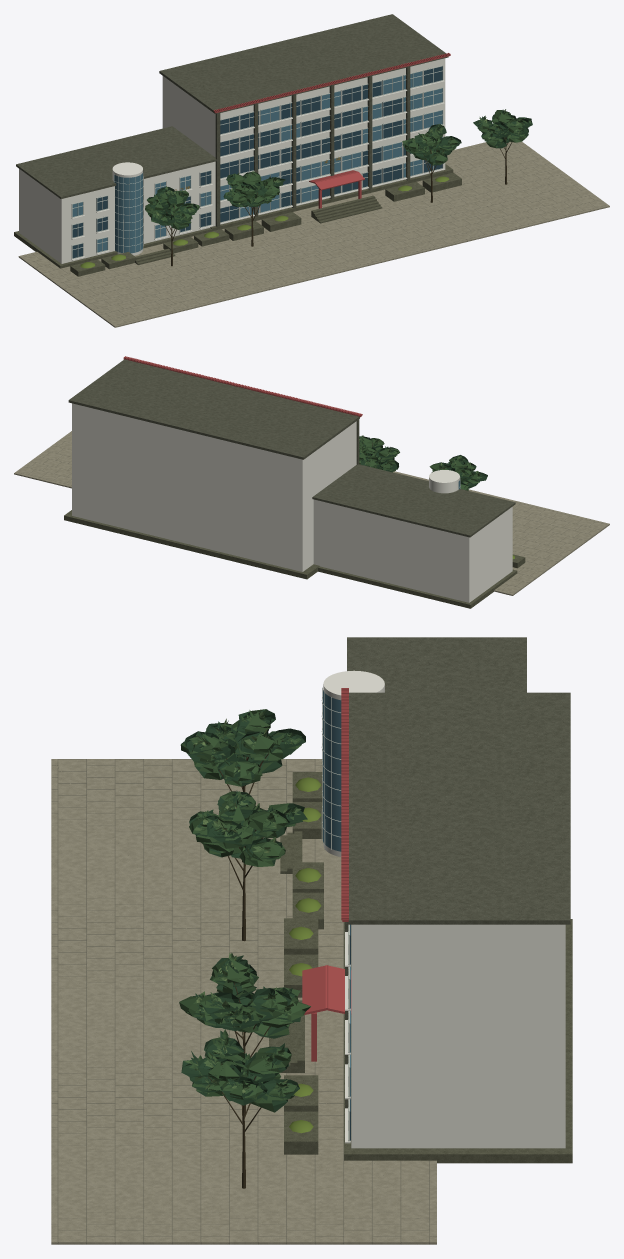
Rendered from lingchuan-academic.glb.
3 views of the same model, one above another, from view 1: azimuth 30°, elevation 25°; view 2: azimuth 150°, elevation 25°; view 3: azimuth 270°, elevation 25° (orthographic). The views are drawn at different scales.
Parts seen in each view (by area): view 1: Academic_courtyard_concrete_paving, Qiushi_laboratory_roof_concrete, Qiushi_laboratory_plaster, Zonghe_office_plaster, Qiushi_laboratory_dark_window_glass, Zonghe_office_roof_concrete, Academic_courtyard, Qiushi_laboratory_aluminium_frames, Qiushi_laboratory_old_blue_glass, Qiushi_laboratory_weathered_stone, Zonghe_office_old_blue_glass, Zonghe_office_weathered_stone (+4 smaller); view 2: Qiushi_laboratory_plaster, Qiushi_laboratory_roof_concrete, Zonghe_office_plaster, Zonghe_office_roof_concrete, Academic_courtyard_concrete_paving, Academic_courtyard, Qiushi_laboratory_weathered_stone, Zonghe_office_weathered_stone, Qiushi_laboratory_red_horizontal_trim; view 3: Academic_courtyard_concrete_paving, Qiushi_laboratory_roof_concrete, Qiushi_laboratory_plaster, Academic_courtyard, Qiushi_laboratory_weathered_stone, Zonghe_office_roof_concrete, Qiushi_laboratory_red_horizontal_trim, Zonghe_office_weathered_stone, Zonghe_office_old_blue_glass, Zonghe_office_plaster, Academic_courtyard_tree_bark, Zonghe_office_clipped_hedge (+1 smaller).
Part boxes in pixels (bbox=[...]): Academic_courtyard_concrete_paving: bbox=[18, 141, 609, 327]; Qiushi_laboratory_roof_concrete: bbox=[159, 14, 448, 226]; Qiushi_laboratory_plaster: bbox=[162, 58, 445, 224]; Zonghe_office_plaster: bbox=[19, 161, 215, 263]; Qiushi_laboratory_dark_window_glass: bbox=[220, 66, 442, 222]; Zonghe_office_roof_concrete: bbox=[16, 126, 216, 198]; Academic_courtyard: bbox=[145, 109, 532, 229]; Qiushi_laboratory_aluminium_frames: bbox=[220, 65, 443, 222]; Qiushi_laboratory_old_blue_glass: bbox=[220, 71, 442, 217]; Qiushi_laboratory_weathered_stone: bbox=[210, 164, 461, 240]; Zonghe_office_old_blue_glass: bbox=[72, 173, 210, 253]; Zonghe_office_weathered_stone: bbox=[14, 228, 229, 276]; Qiushi_laboratory_plaster: bbox=[72, 403, 356, 571]; Qiushi_laboratory_roof_concrete: bbox=[68, 359, 359, 464]; Zonghe_office_plaster: bbox=[313, 470, 512, 602]; Zonghe_office_roof_concrete: bbox=[312, 464, 515, 537]; Academic_courtyard_concrete_paving: bbox=[14, 431, 609, 595]; Academic_courtyard: bbox=[359, 435, 487, 490]; Qiushi_laboratory_weathered_stone: bbox=[64, 510, 319, 579]; Zonghe_office_weathered_stone: bbox=[318, 554, 525, 608]; Qiushi_laboratory_red_horizontal_trim: bbox=[123, 356, 362, 417]; Academic_courtyard_concrete_paving: bbox=[51, 759, 436, 1244]; Qiushi_laboratory_roof_concrete: bbox=[345, 692, 570, 1108]; Qiushi_laboratory_plaster: bbox=[345, 924, 565, 1148]; Academic_courtyard: bbox=[179, 709, 310, 1112]; Qiushi_laboratory_weathered_stone: bbox=[269, 918, 572, 1163]; Zonghe_office_roof_concrete: bbox=[347, 637, 526, 692]; Qiushi_laboratory_red_horizontal_trim: bbox=[302, 688, 351, 1061]; Zonghe_office_weathered_stone: bbox=[280, 772, 323, 929]; Zonghe_office_old_blue_glass: bbox=[323, 690, 341, 851]; Zonghe_office_plaster: bbox=[323, 670, 384, 856]; Academic_courtyard_tree_bark: bbox=[205, 740, 289, 1188]; Zonghe_office_clipped_hedge: bbox=[295, 777, 321, 912].
Bounding box in the file's own units: 80 × 18.77 × 36.5.
Materials: 16 (6 with a texture image).
